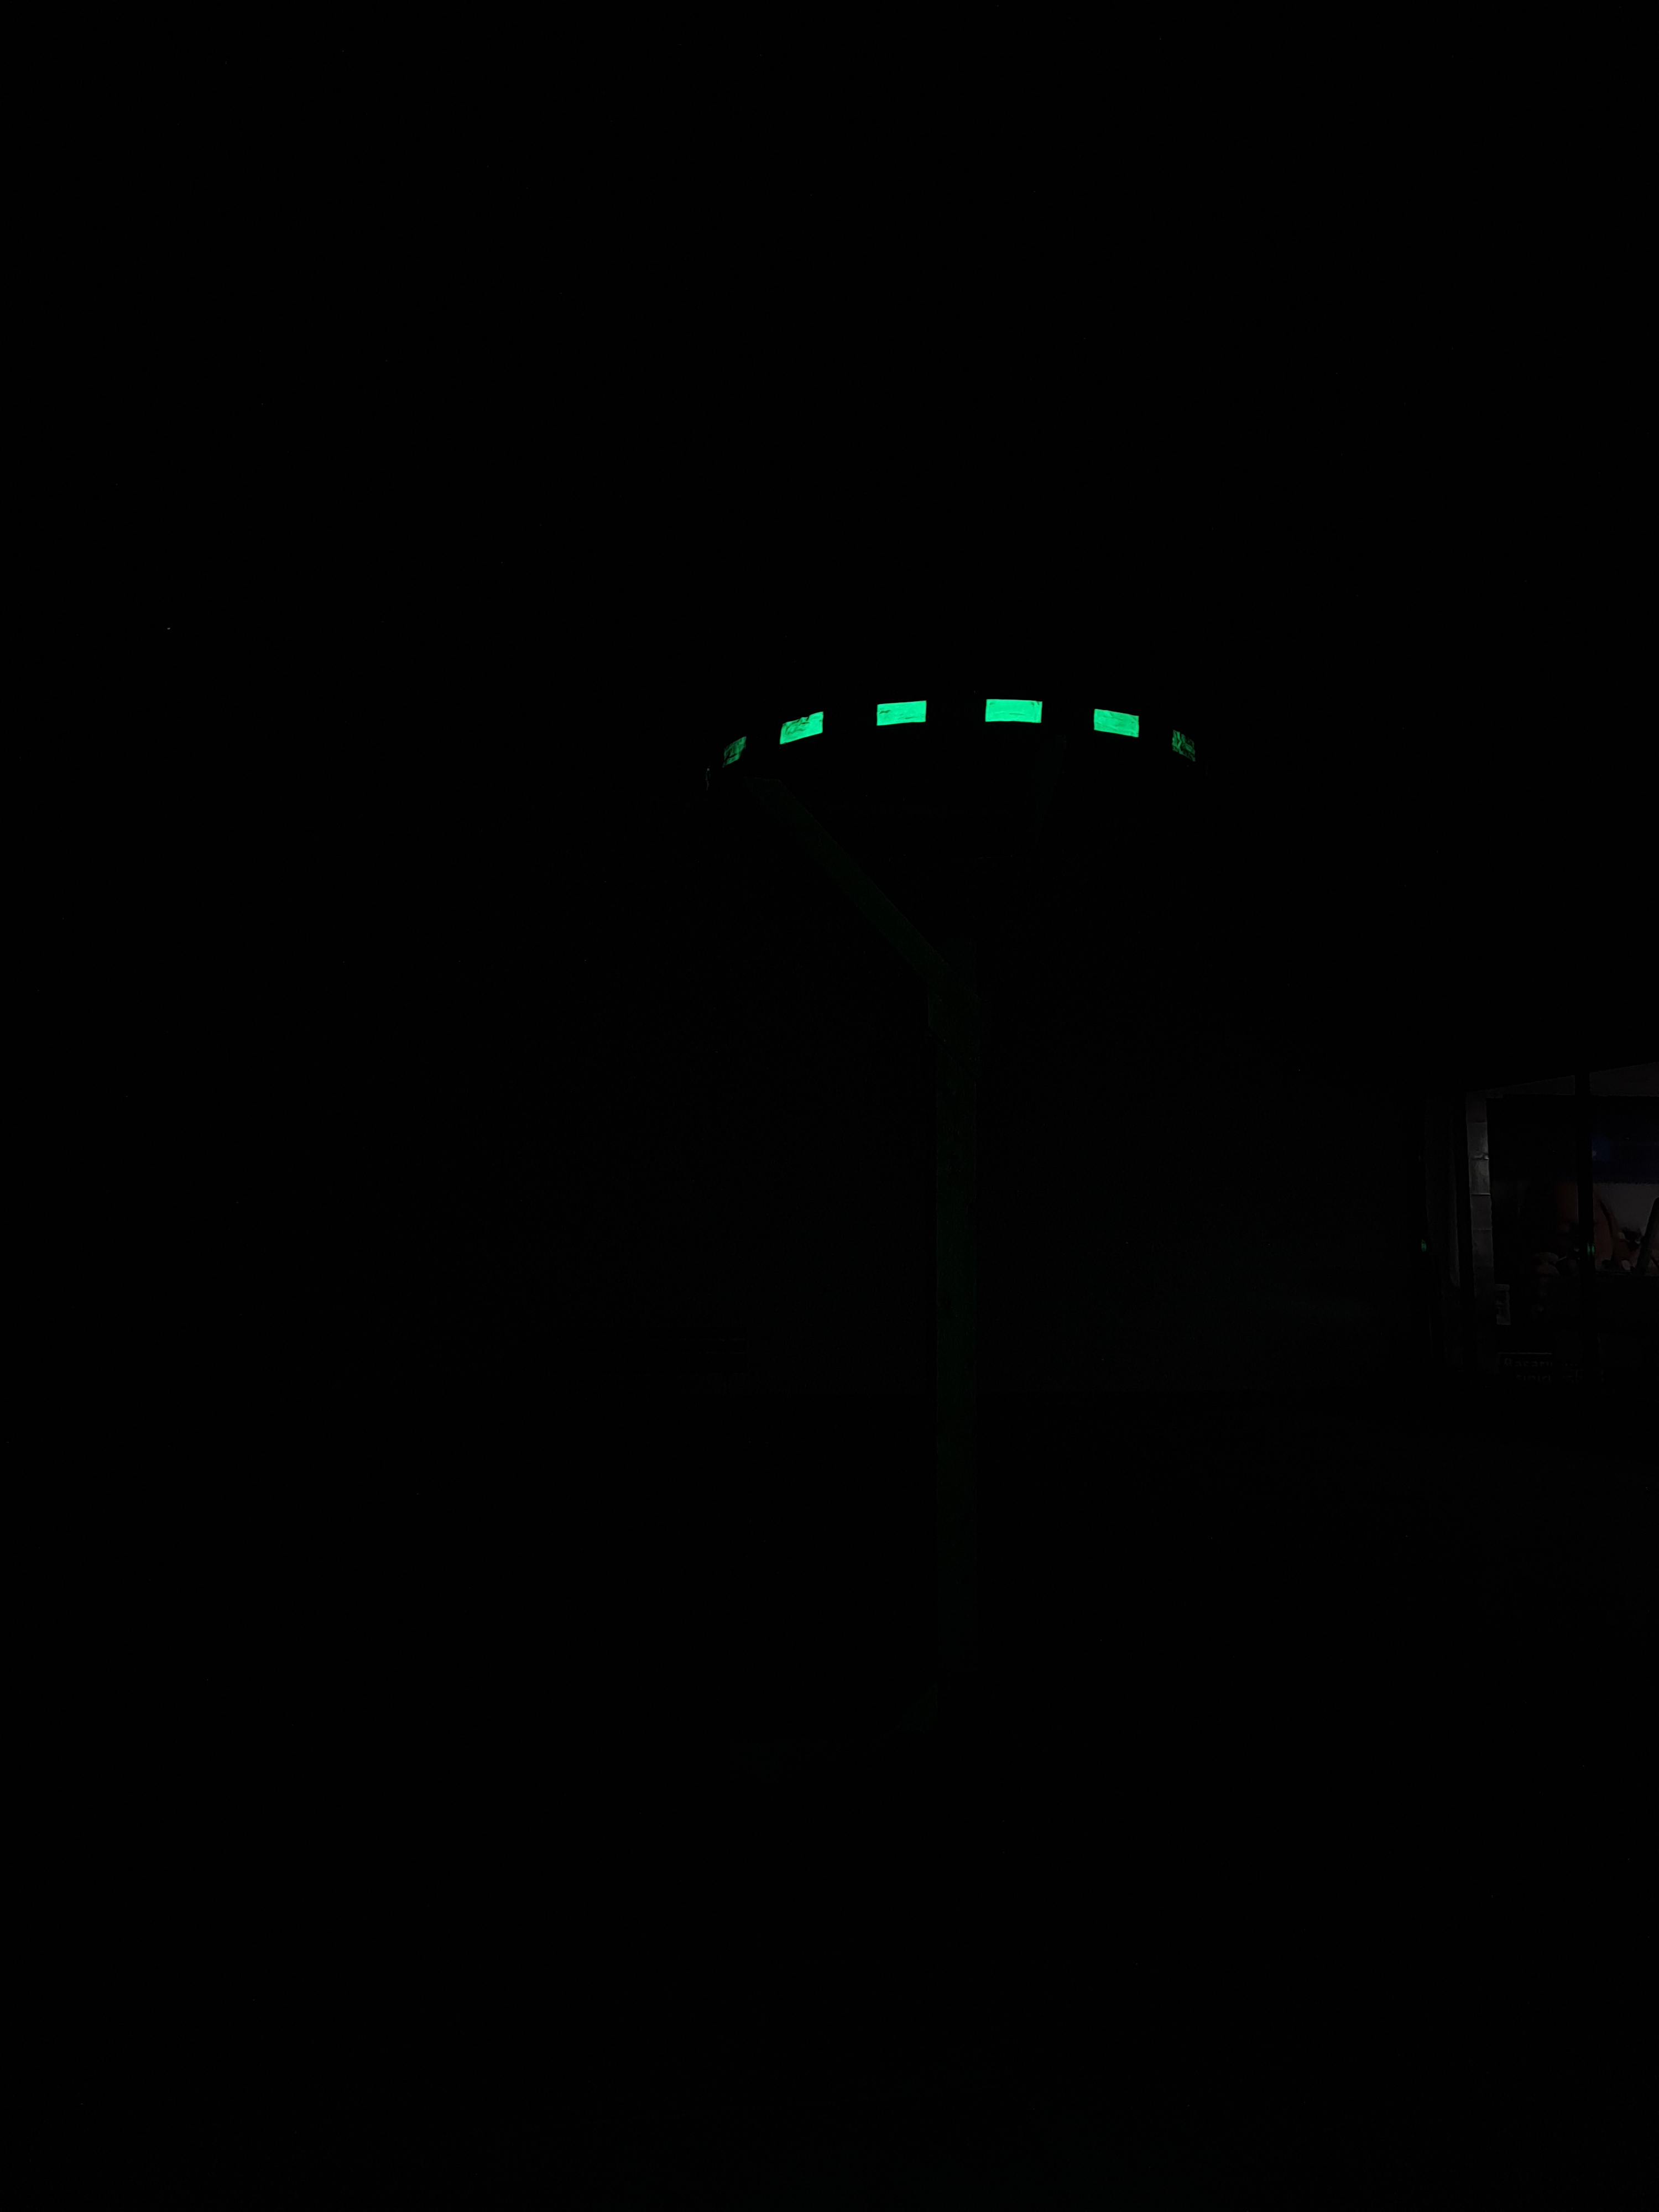hoop: (714, 693, 1204, 768)
